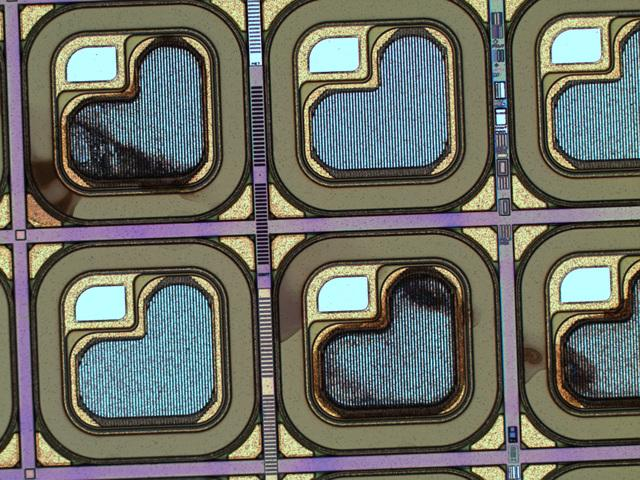SEZ BURNT: (17, 35, 640, 423)
